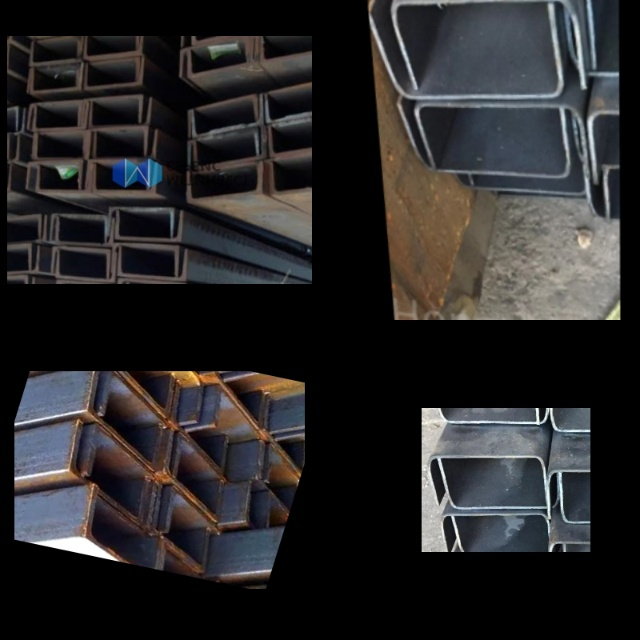Shveller: (367, 0, 564, 98), (393, 0, 586, 92), (416, 106, 589, 178), (397, 103, 571, 173), (53, 422, 164, 522), (71, 426, 180, 524), (70, 371, 175, 462), (89, 374, 192, 466), (74, 485, 181, 570), (194, 386, 284, 476), (146, 432, 237, 519), (135, 485, 224, 569), (439, 460, 557, 507), (430, 458, 547, 505), (117, 371, 214, 420), (83, 371, 183, 416), (452, 514, 558, 552), (563, 0, 619, 70), (444, 517, 549, 552), (192, 94, 262, 136), (189, 162, 262, 201), (189, 36, 258, 77), (189, 96, 257, 136), (181, 36, 248, 75), (194, 128, 266, 164), (188, 128, 258, 164), (574, 113, 620, 163), (119, 248, 187, 280), (111, 243, 180, 274), (44, 216, 114, 246), (589, 0, 619, 69), (591, 117, 620, 186), (85, 57, 144, 90), (548, 473, 590, 519), (266, 81, 312, 122), (117, 211, 182, 239), (57, 251, 116, 281), (95, 164, 158, 192), (269, 114, 312, 155), (52, 247, 110, 277), (108, 209, 172, 236), (94, 131, 157, 158), (87, 161, 150, 188), (90, 98, 151, 125), (81, 96, 142, 123), (89, 127, 147, 154), (272, 155, 312, 194), (51, 214, 106, 241), (34, 131, 87, 159), (38, 165, 92, 192), (31, 36, 83, 64), (31, 64, 82, 92), (27, 161, 81, 187), (34, 104, 87, 130), (28, 101, 81, 127), (261, 36, 312, 63), (252, 36, 312, 58), (560, 475, 590, 519), (428, 408, 547, 419), (85, 36, 143, 58), (79, 36, 138, 53), (537, 408, 590, 426), (7, 245, 38, 274), (7, 216, 40, 243), (549, 408, 590, 428), (182, 36, 248, 46)
